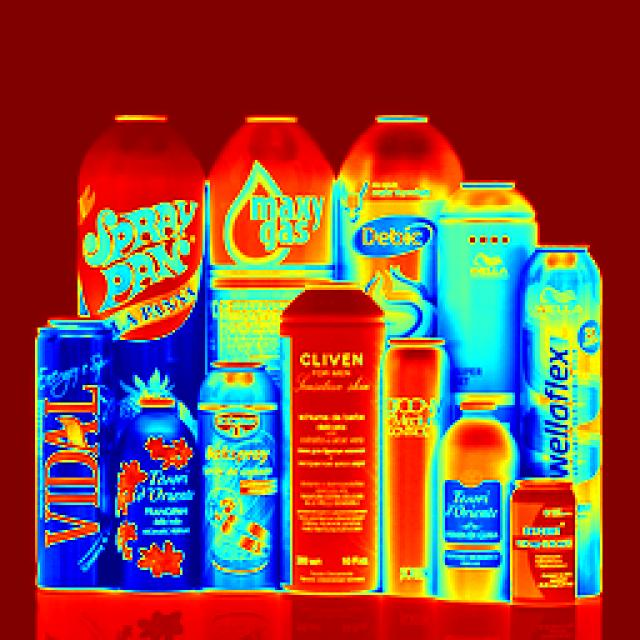Aerosol Cans: (274, 274, 390, 600), (66, 90, 208, 340), (334, 92, 461, 328), (203, 109, 331, 325), (434, 174, 549, 378), (519, 241, 606, 488), (190, 352, 280, 587), (32, 310, 108, 575), (111, 381, 193, 576), (441, 388, 513, 598)
